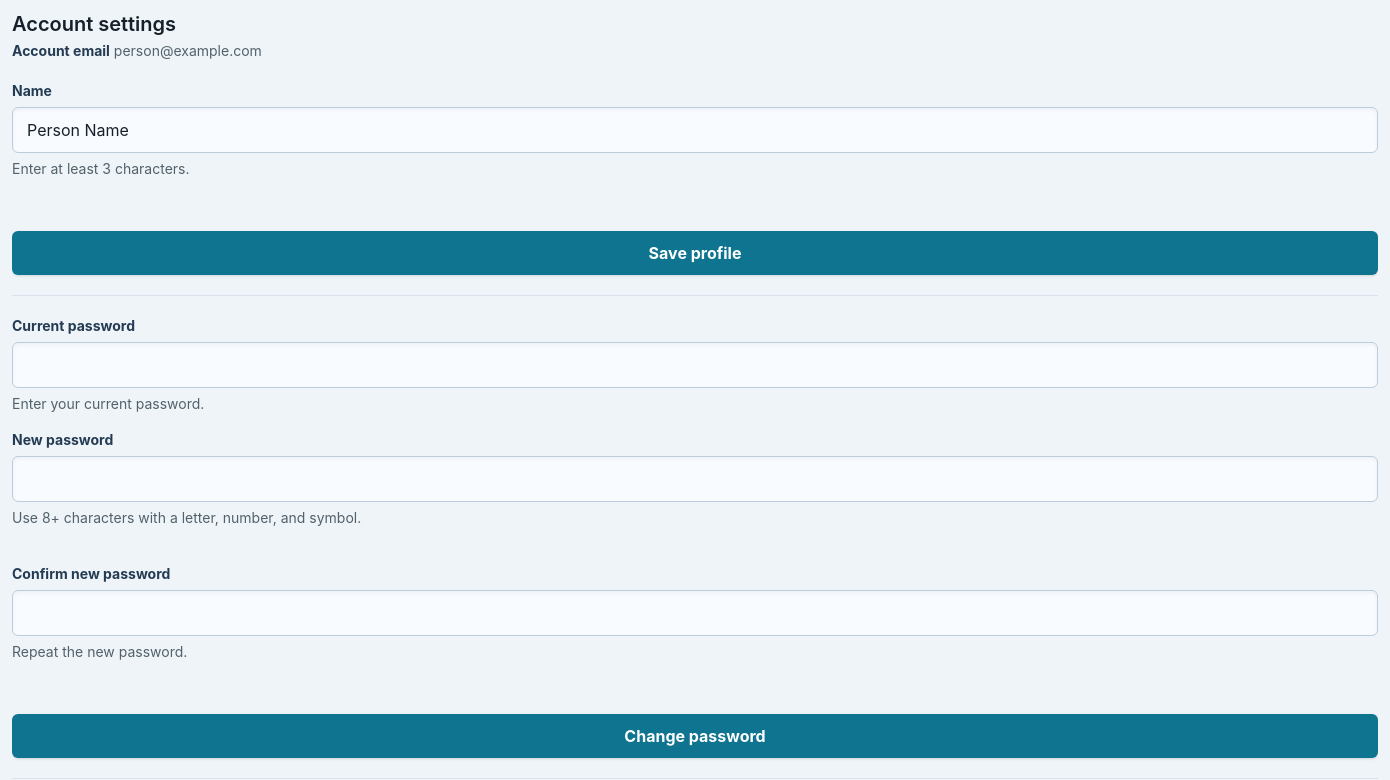
Test: AccountSettingsPanel › updates the profile and reports the returned user
Step 1. Replace the text in the field labelled "Name" with "Updated Person" → (695, 130), box [12,107,1378,153]
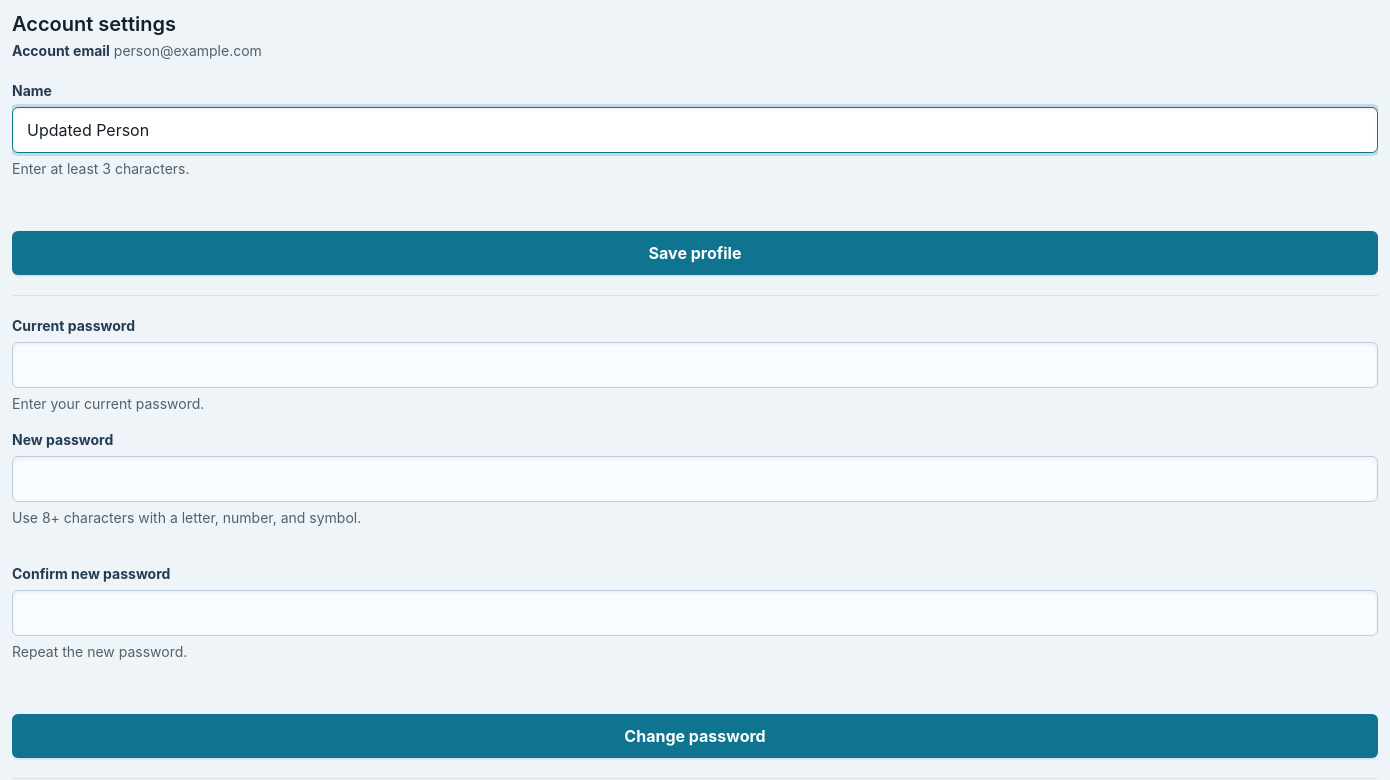
Step 2. Click the button "Save profile" → click(695, 253), box [12,231,1378,275]
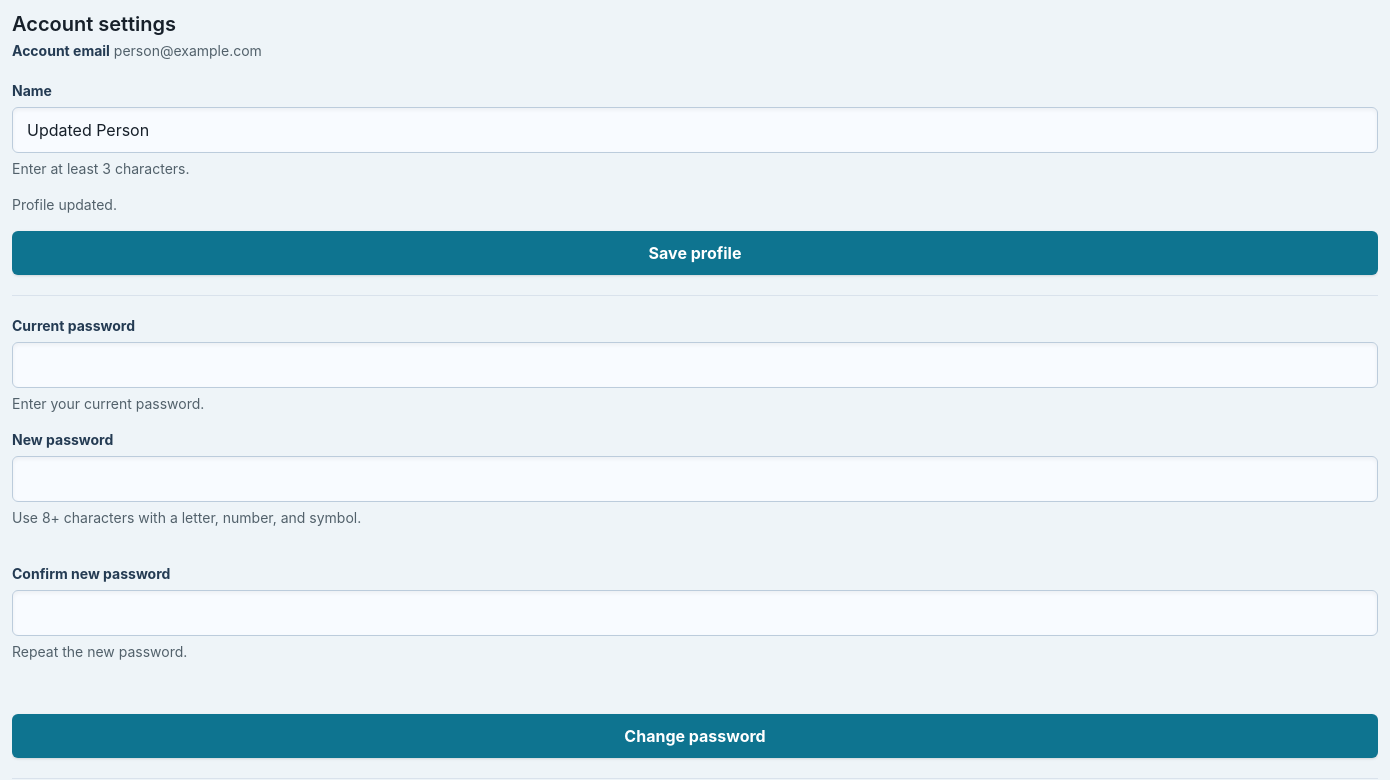
Now the text "Profile updated." is shown, box [12,196,117,213]
